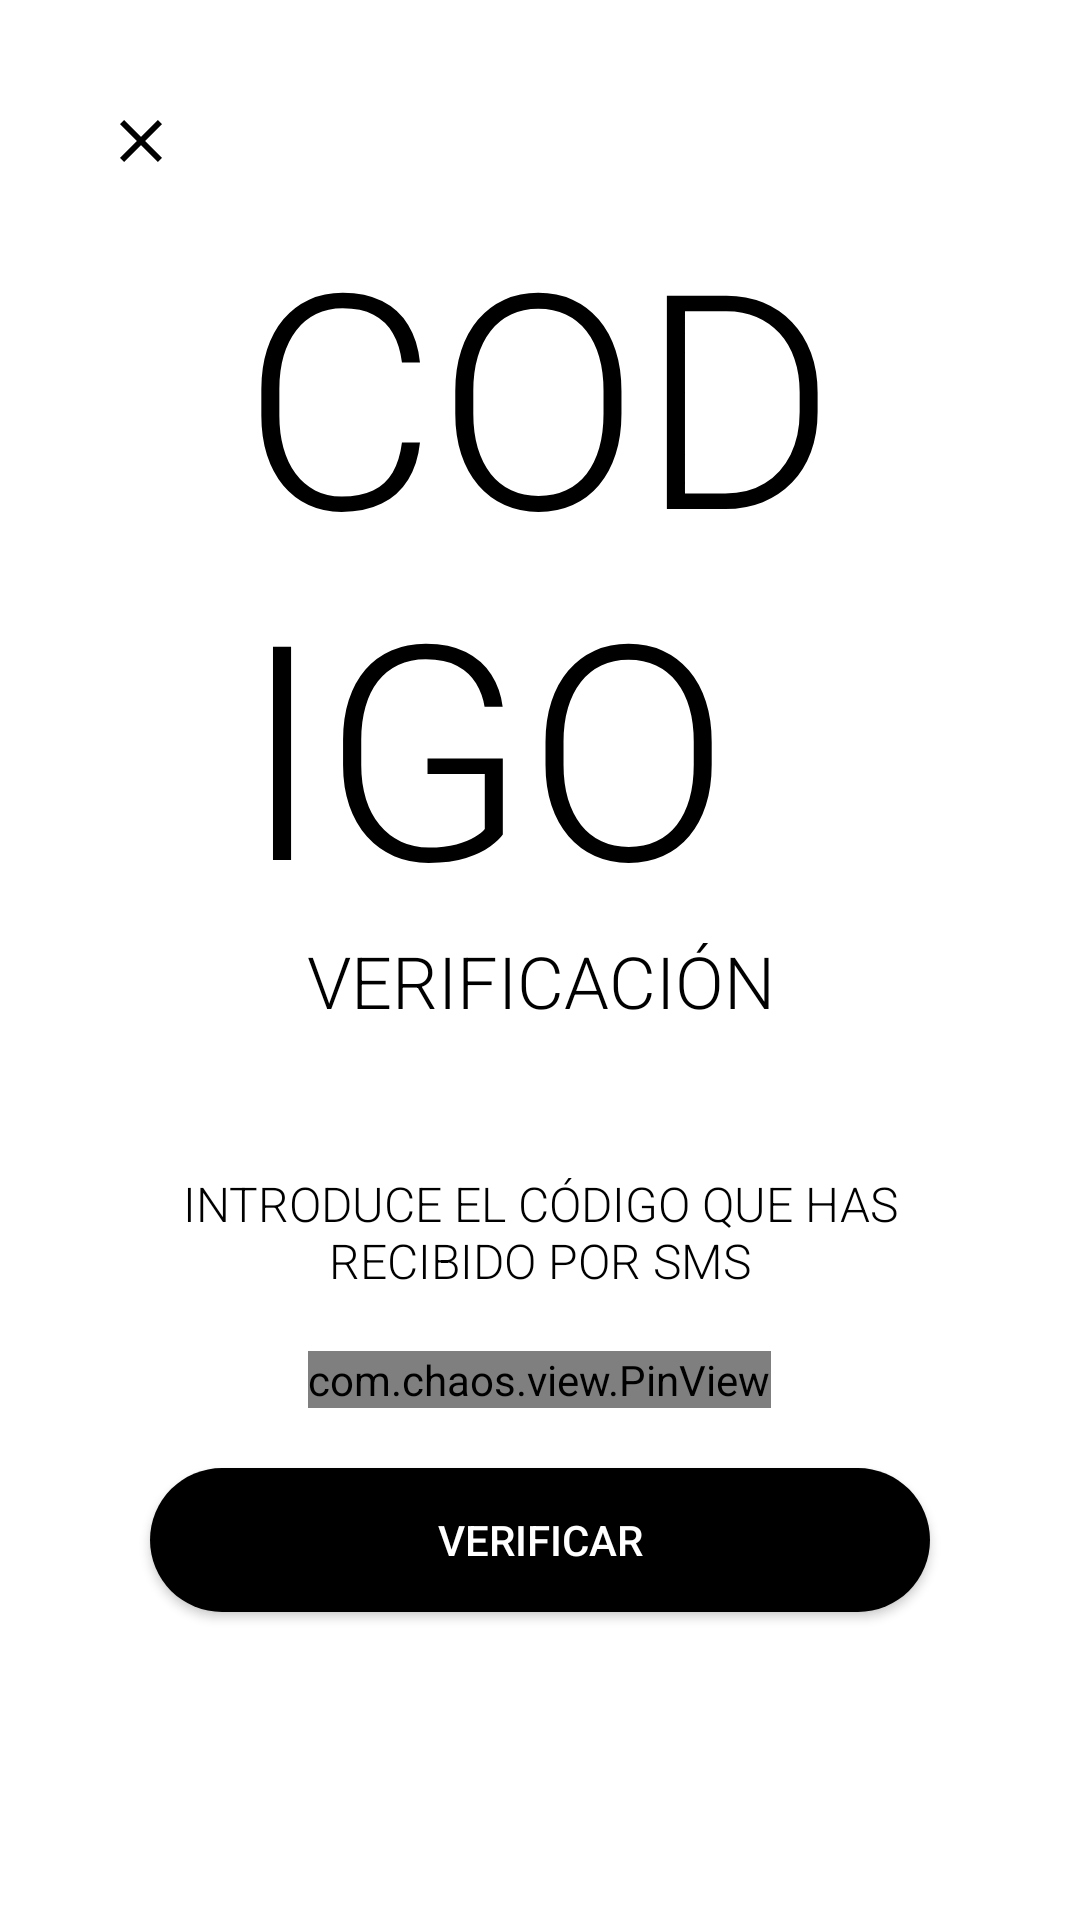

Icons on this 1080w x 1920h Android screen, each with the point to tap as [x,y]:
close: [141,141]
